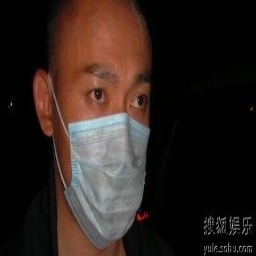correctlyWear: (31, 45, 152, 249)
